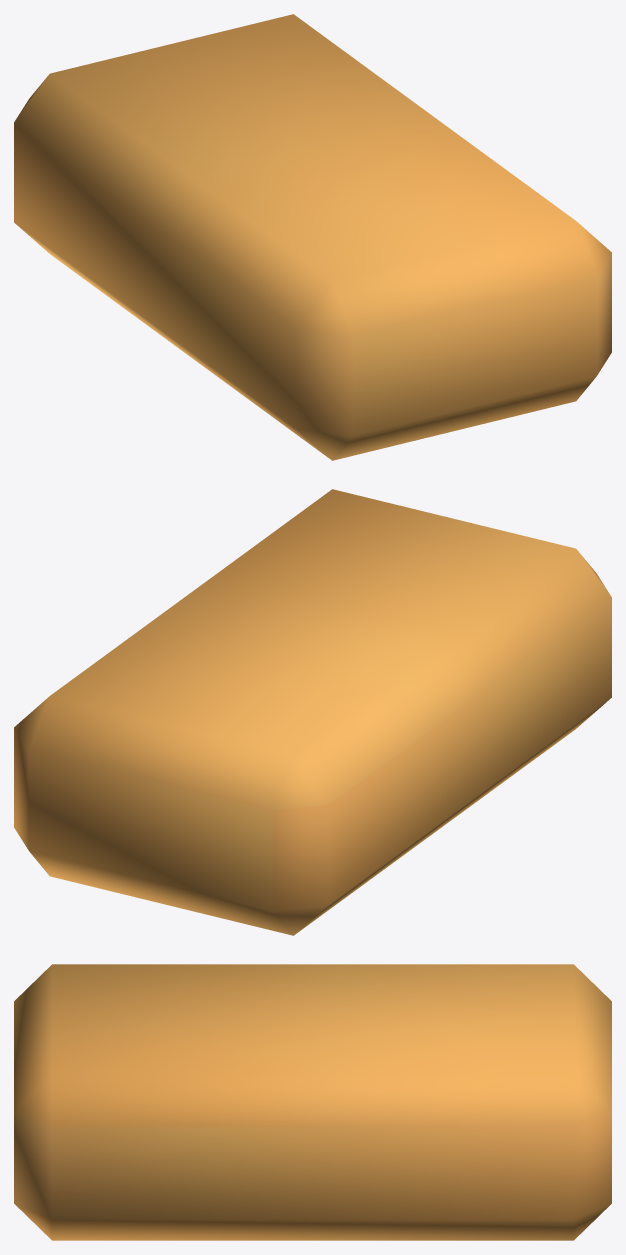
Rendered from Soap-col.glb.
The picture shows the model from 3 angles, top to bottom: view 1: azimuth 30°, elevation 25°; view 2: azimuth 150°, elevation 25°; view 3: azimuth 270°, elevation 25°; orthographic projection. The views are drawn at different scales.
Visible parts, largest first — view 1: Soap-col; view 2: Soap-col; view 3: Soap-col.
Part boxes in pixels (x1=…): Soap-col: x1=14, y1=14, x2=611, y2=460; Soap-col: x1=14, y1=489, x2=611, y2=935; Soap-col: x1=14, y1=964, x2=611, y2=1240.
Bounding box in the file's own units: 0.0595 × 0.0325 × 0.1058.
1 material, 1 textured.
